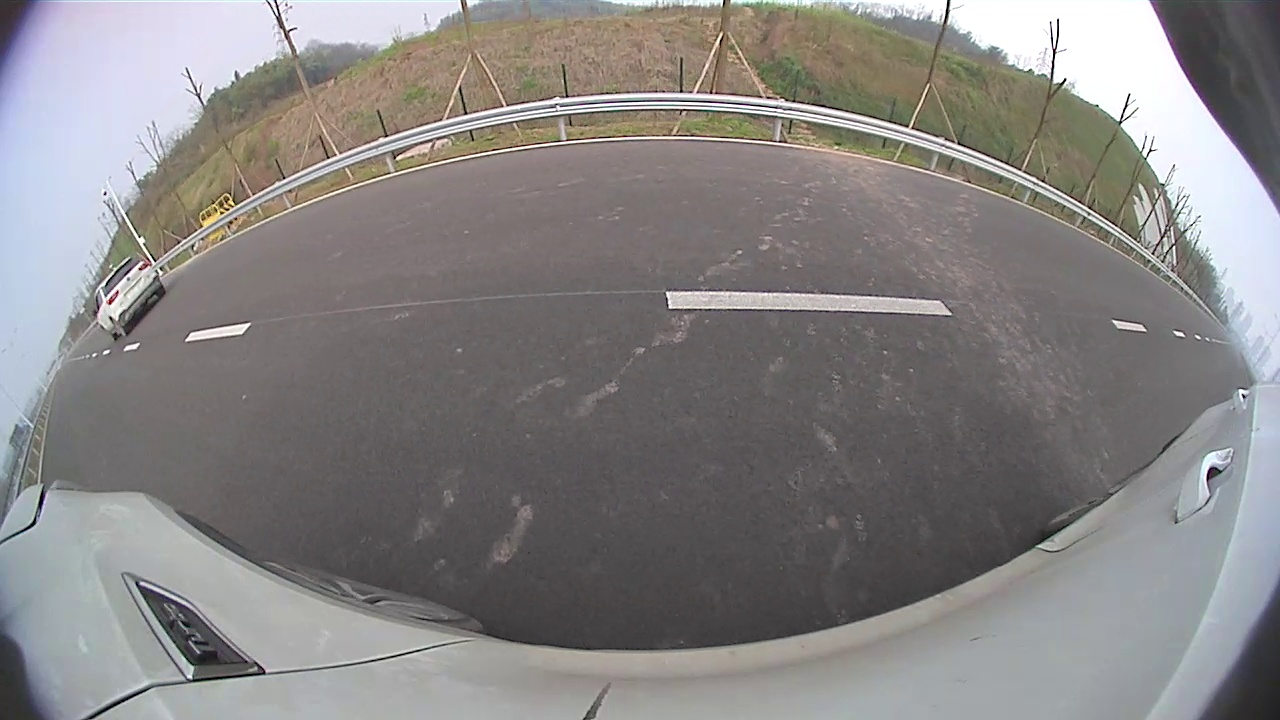car: (95, 252, 165, 340)
rear: (106, 315, 128, 340)
